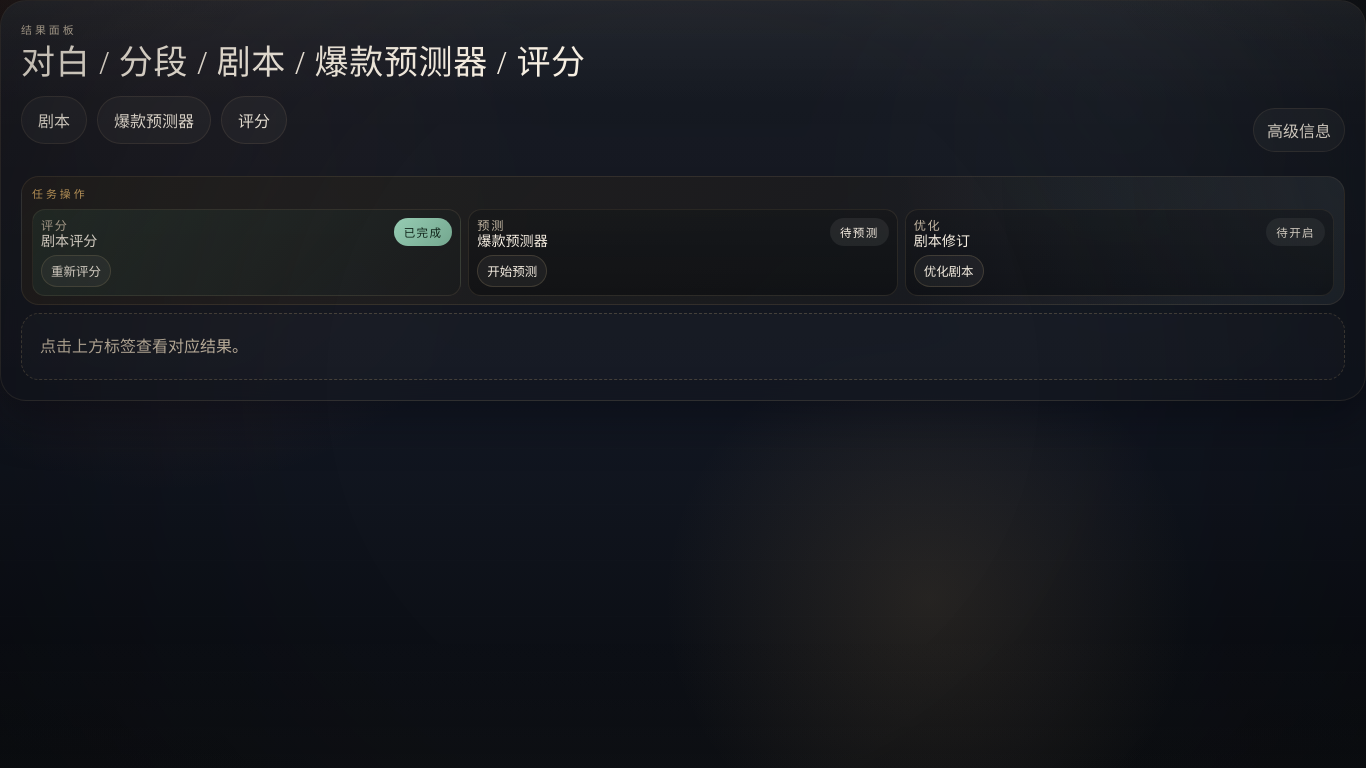
it: copies script from the toolbar and shows feedback
The width and height of the screenshot is (1366, 768).
Click the tab "剧本" at {"x": 54, "y": 120}, box [21,96,87,144]
(page scrolled)
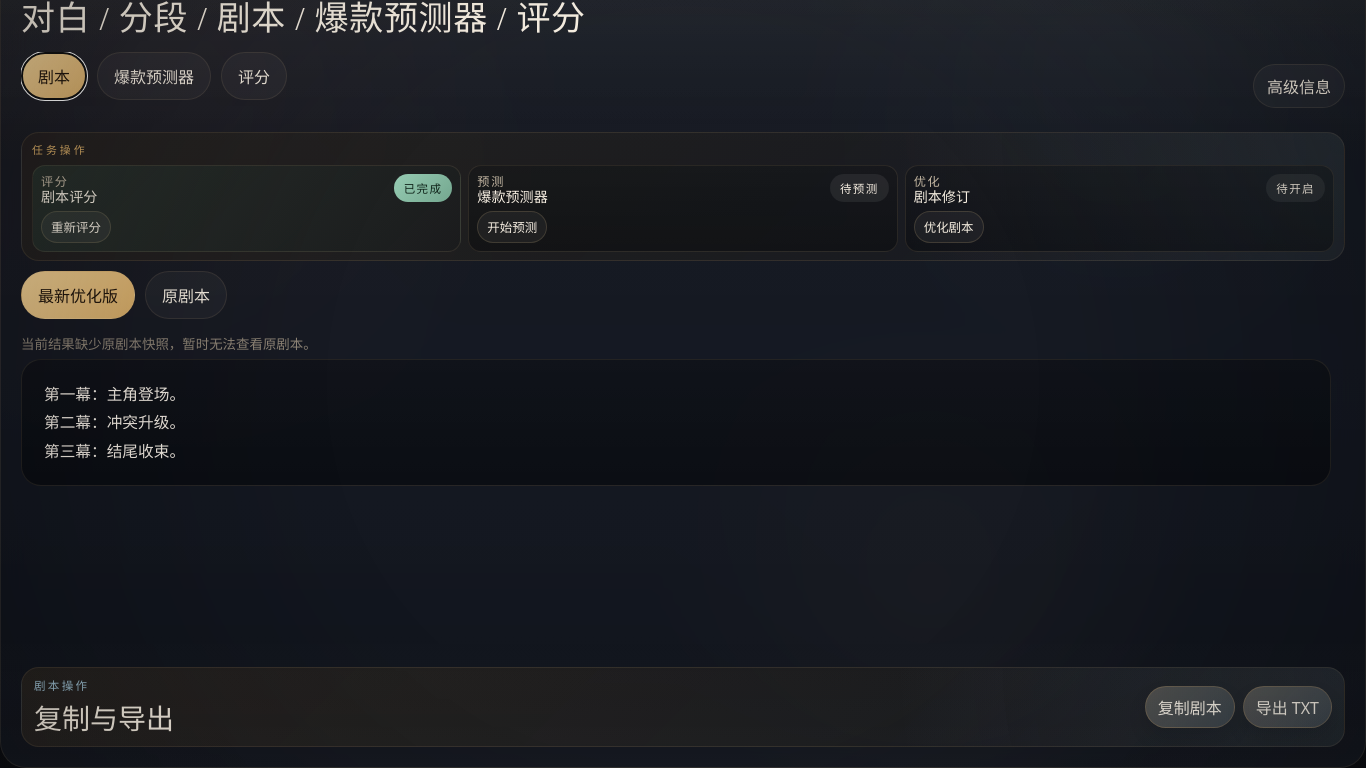
Expected: the text "任务操作" is shown, [32,141,88,157]
Result: the button "复制剧本" is shown
Result: the button "导出 TXT" is shown at [1243,686,1332,728]
Click the button "复制剧本" at {"x": 1190, "y": 707}, box [1145,686,1235,728]
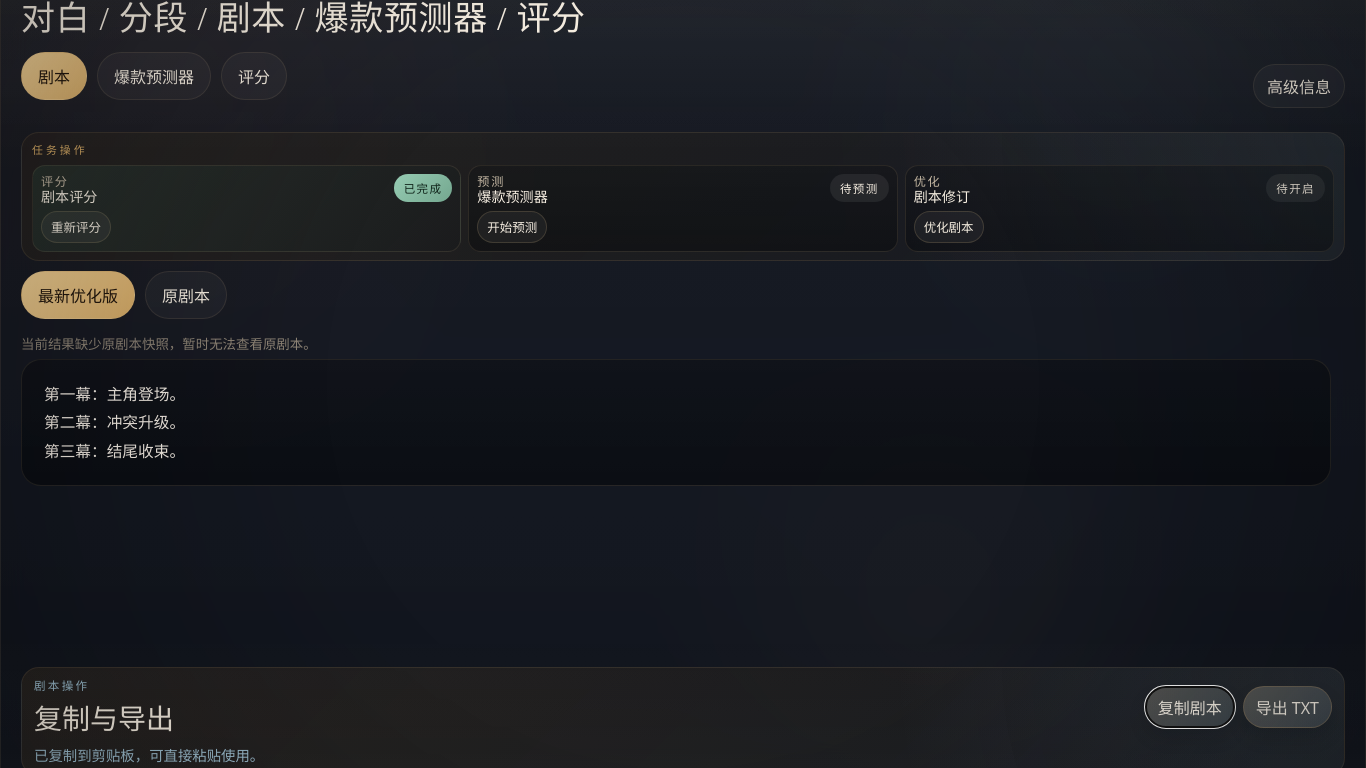
Result: the text "已复制到剪贴板，可直接粘贴使用。" is shown at [34,746,264,765]
